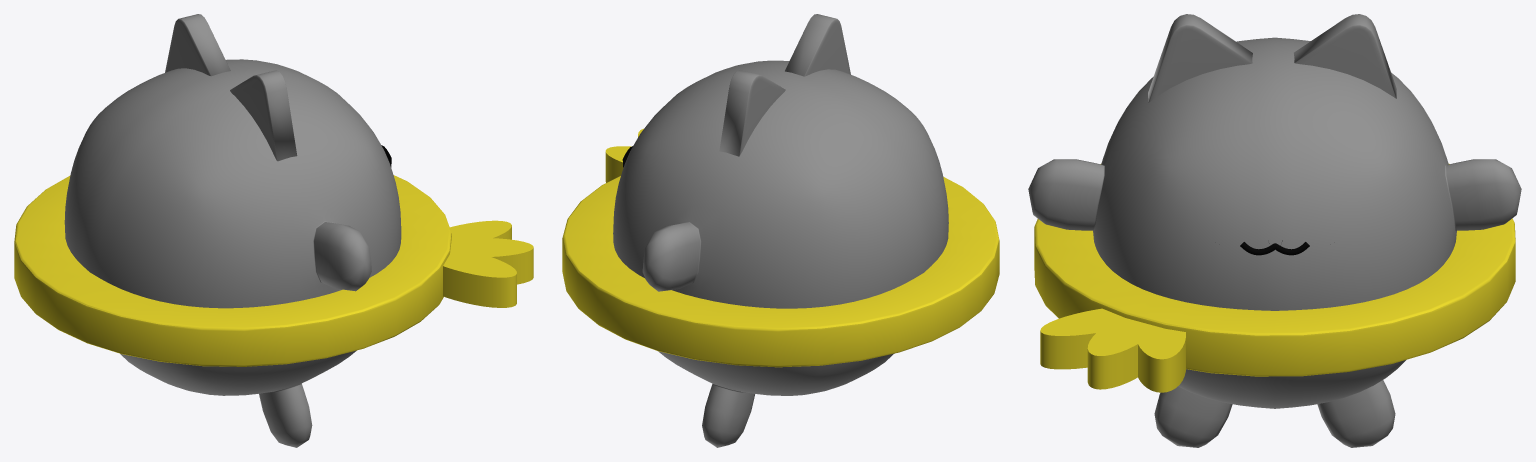
The model's file is ZOZOCAT.glb.
The picture shows the model from 3 angles, left to right: view 1: azimuth 30°, elevation 25°; view 2: azimuth 150°, elevation 25°; view 3: azimuth 270°, elevation 25°; orthographic projection. The views are drawn at different scales.
Parts seen in each view (by area): view 1: Cube.001, Circle.003, Cube.002; view 2: Cube.001, Circle.003, Cube.002; view 3: Cube.001, Circle.003, Cube.002, NurbsPath.
Part boxes in pixels (x1,y1,x2,y2): Cube.001: (64, 59, 401, 447); Circle.003: (14, 175, 533, 366); Cube.002: (165, 14, 297, 161); Cube.001: (613, 60, 948, 447); Circle.003: (562, 128, 999, 367); Cube.002: (719, 14, 850, 156); Cube.001: (1028, 37, 1521, 447); Circle.003: (1034, 164, 1515, 392); Cube.002: (1148, 14, 1396, 102); NurbsPath: (1240, 242, 1309, 255).
Size of the model in its own units: 2.39 by 2.07 by 2.23.
